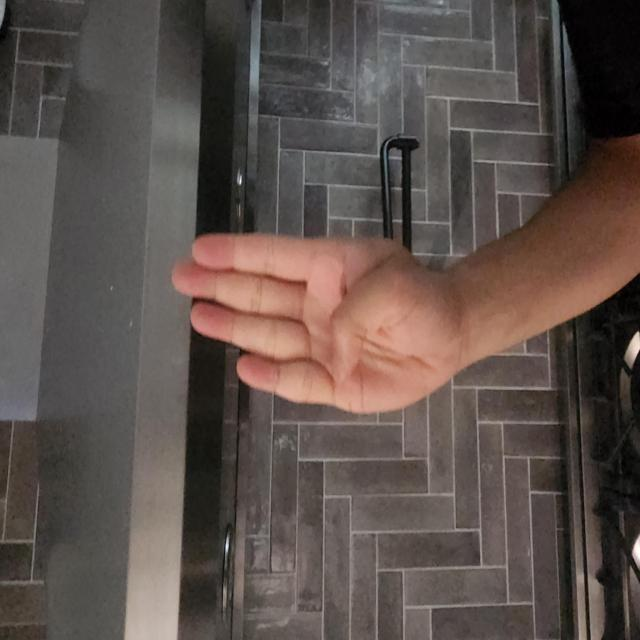B: (162, 220, 324, 634)
